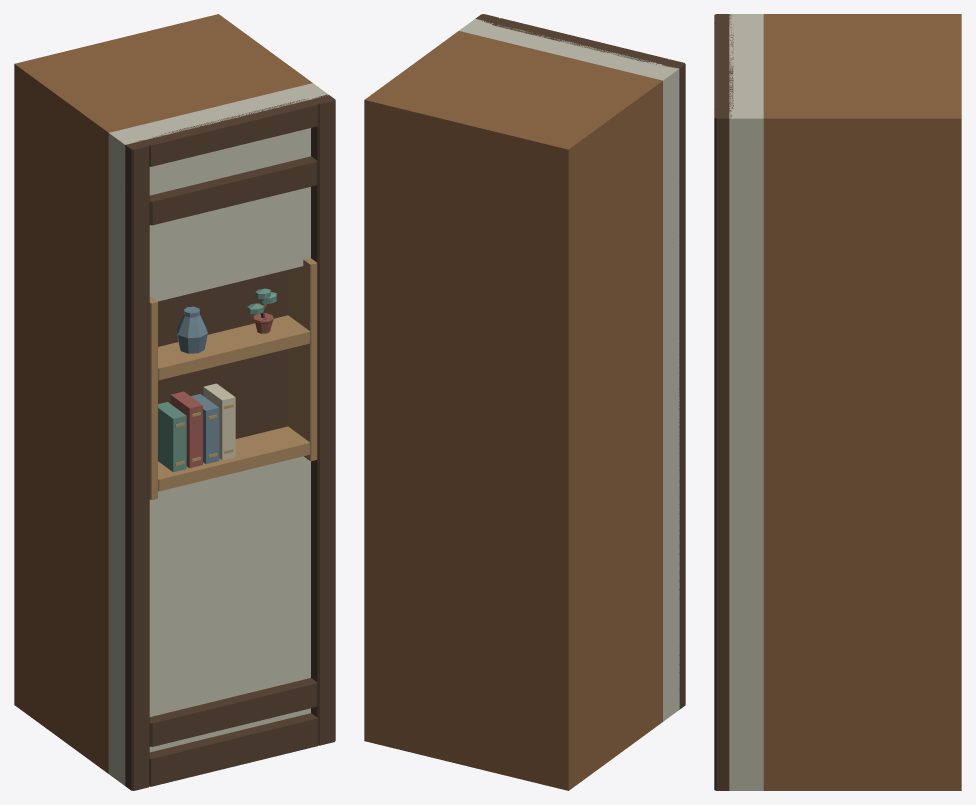
Rendered from wall_shop_shelf.glb.
3 views of the same model, side by side, from view 1: azimuth 30°, elevation 25°; view 2: azimuth 150°, elevation 25°; view 3: azimuth 270°, elevation 25° (orthographic). The views are drawn at different scales.
Visible parts, largest first — view 1: face_front, geometry; view 2: geometry, face_front; view 3: geometry, face_front.
Boxes of the visible parts, x1,y1,x2,y2 form: face_front: (108, 83, 335, 790); geometry: (14, 14, 312, 773); geometry: (364, 31, 662, 790); face_front: (459, 14, 685, 721); geometry: (763, 14, 961, 790); face_front: (714, 14, 763, 790).
Size of the model in its own units: 1 by 3 by 1.
